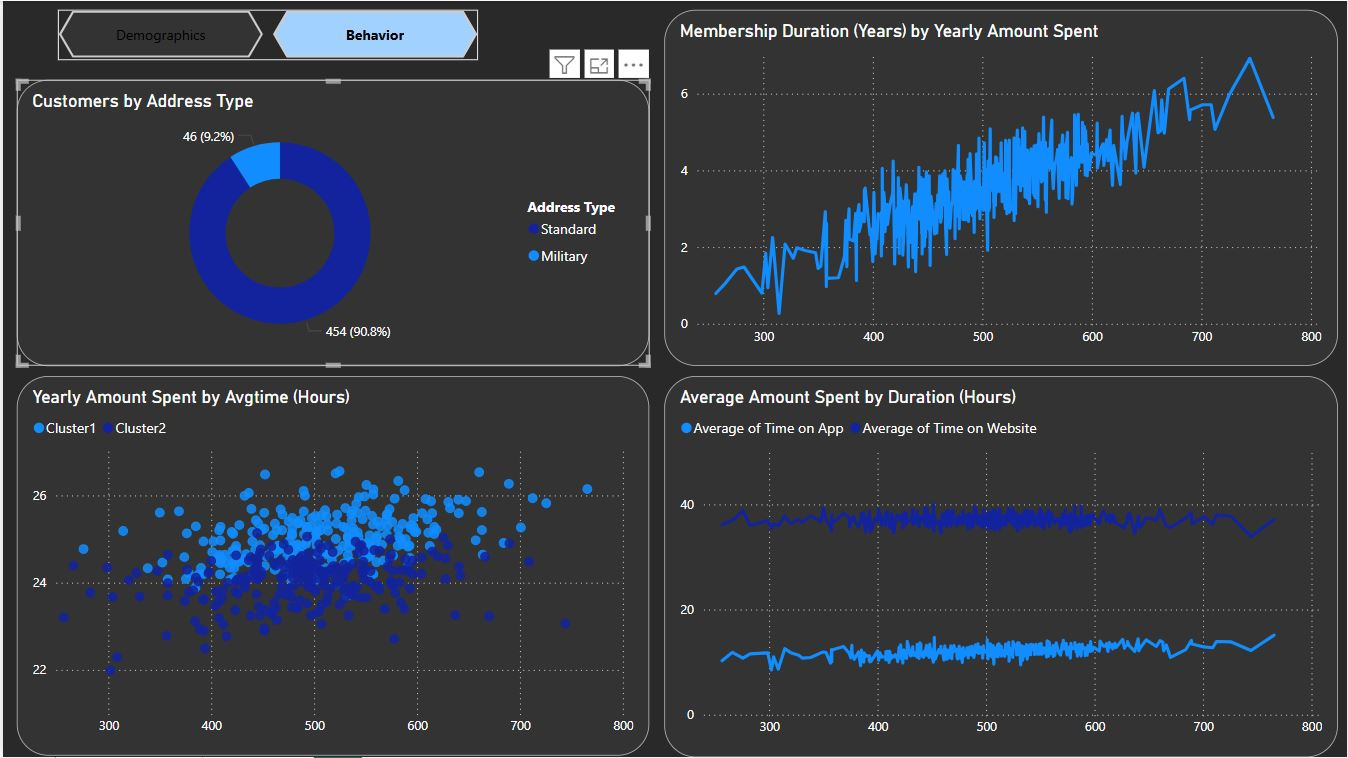

What the dashboard file says about the page in this screenshot:
{"tool":"powerbi","page":{"name":"Behavior","canvas":[1280,720],"ordinal":1},"visuals":[{"type":"lineChart","title":"Membership Duration (Years) by Yearly Amount Spent","fields":{"Category":["Ecommerce_data_week2_final.Yearly Amount Spent"],"Y":["Avg(Ecommerce_data_week2_final.Length of Membership)"]},"box":[629.8,8.3,641.7,339.3],"z":0},{"type":"lineChart","title":"Average Amount Spent  by Duration (Hours)","fields":{"Category":["Ecommerce_data_week2_final.Yearly Amount Spent"],"Y":["Avg(Ecommerce_data_week2_final.Time on App)","Avg(Ecommerce_data_week2_final.Time on Website)"]},"box":[629.8,357.1,641.7,363.1],"z":1000},{"type":"scatterChart","title":"Yearly Amount Spent by Avgtime (Hours)","fields":{"X":["Ecommerce_data_week2_final.Yearly Amount Spent"],"Y":["Ecommerce_data_week2_final.avgtime"],"Series":["Ecommerce_data_week2_final.Yearly Amount Spent 2"]},"box":[13.1,357.1,602.4,361.9],"z":2000},{"type":"donutChart","fields":{"Category":["Ecommerce_data_week2_final.Address Type"],"Y":["CountNonNull(Ecommerce_data_week2_final.Email)"]},"box":[13.1,75,602.4,272.6],"z":3000},{"type":"pageNavigator","box":[52.4,8.3,400,47.6],"z":4000}]}

Visuals, with their boxes in screenshot pixels (x1, y1, x2, y2), scaled from the page's 1280x720 canvas onto the 1348x758 screenshot:
"Membership Duration (Years) by Yearly Amount Spent" lineChart: 663,9,1339,366
"Average Amount Spent  by Duration (Hours)" lineChart: 663,376,1339,757
"Yearly Amount Spent by Avgtime (Hours)" scatterChart: 14,376,648,757
donutChart - Ecommerce_data_week2_final.Address Type x CountNonNull(Ecommerce_data_week2_final.Email): 14,79,648,366
pageNavigator: 55,9,476,59
